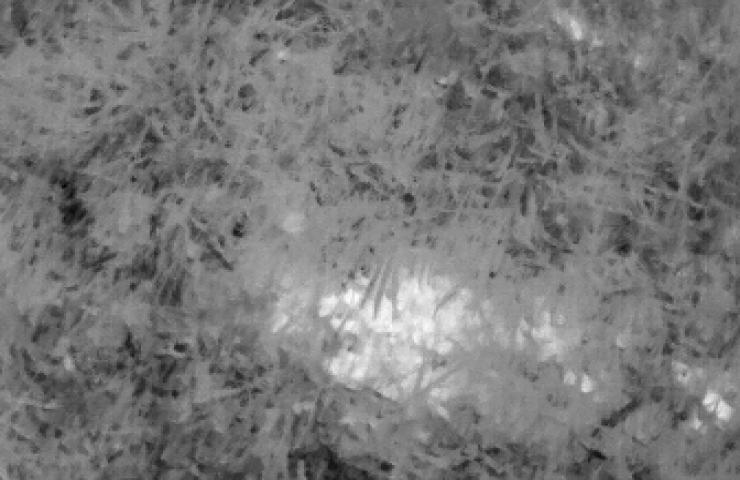landmines: (320, 265, 509, 418)
